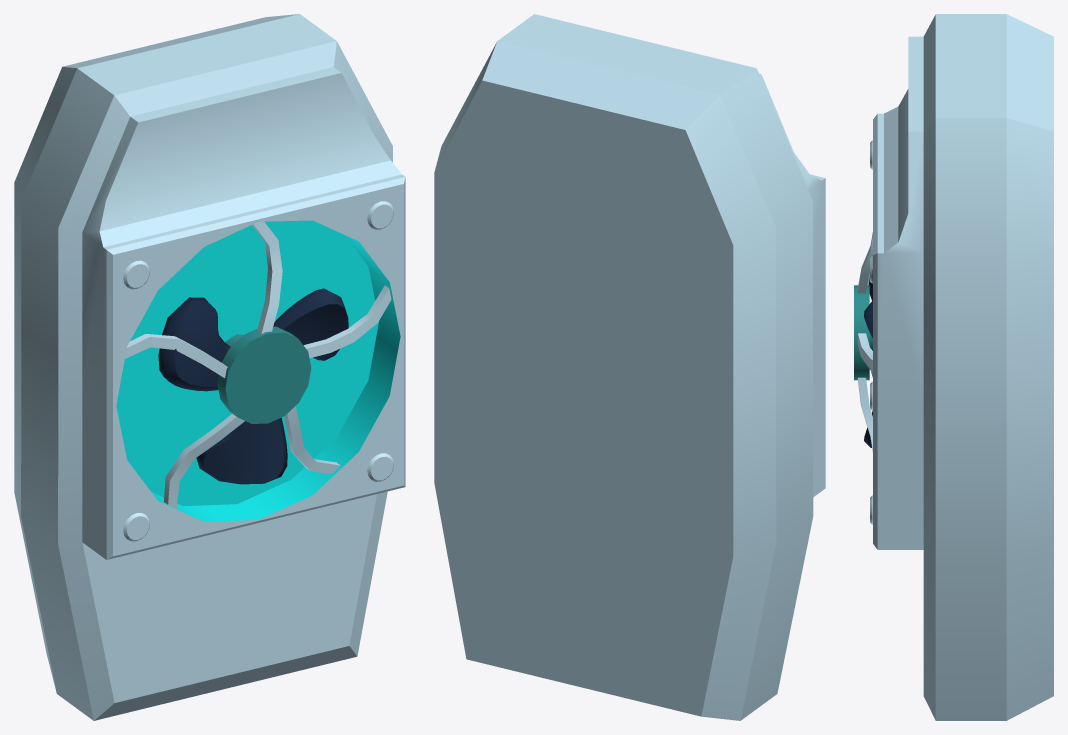
Rendered from bingdong.FBX.
The picture shows the model from 3 angles, left to right: view 1: azimuth 30°, elevation 25°; view 2: azimuth 150°, elevation 25°; view 3: azimuth 270°, elevation 25°; orthographic projection. The views are drawn at different scales.
Visible parts, largest first — view 1: 冰冻机器; view 2: 冰冻机器; view 3: 冰冻机器.
Boxes of the visible parts, box(x1,y1,x2,y2) form: 冰冻机器: box(14, 14, 405, 720); 冰冻机器: box(434, 14, 825, 720); 冰冻机器: box(854, 14, 1053, 720).
Size of the model in its own units: 64.81 by 115 by 35.
